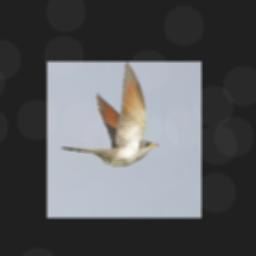Cuckoo: (60, 61, 158, 164)
